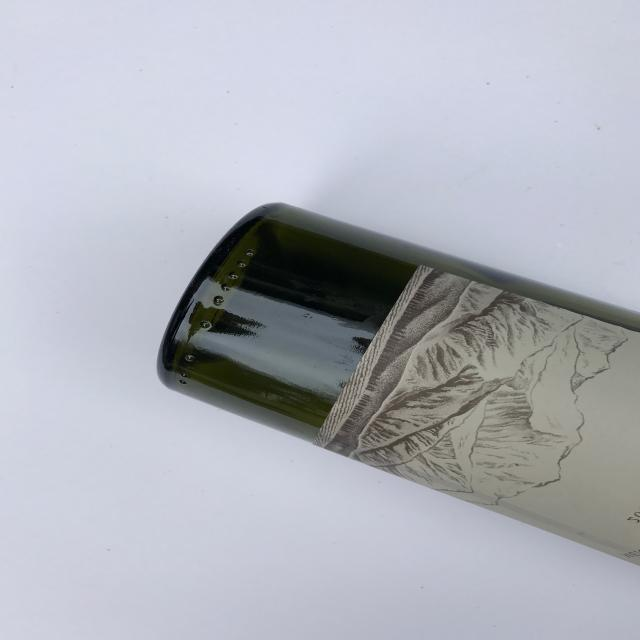glass: (156, 200, 640, 570)
